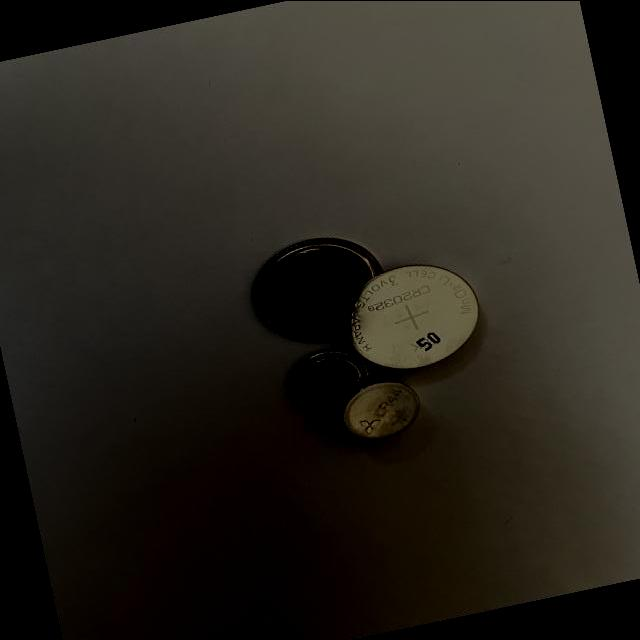COIN: (334, 252, 491, 384), (239, 223, 397, 354), (331, 368, 428, 452), (280, 342, 380, 421)
